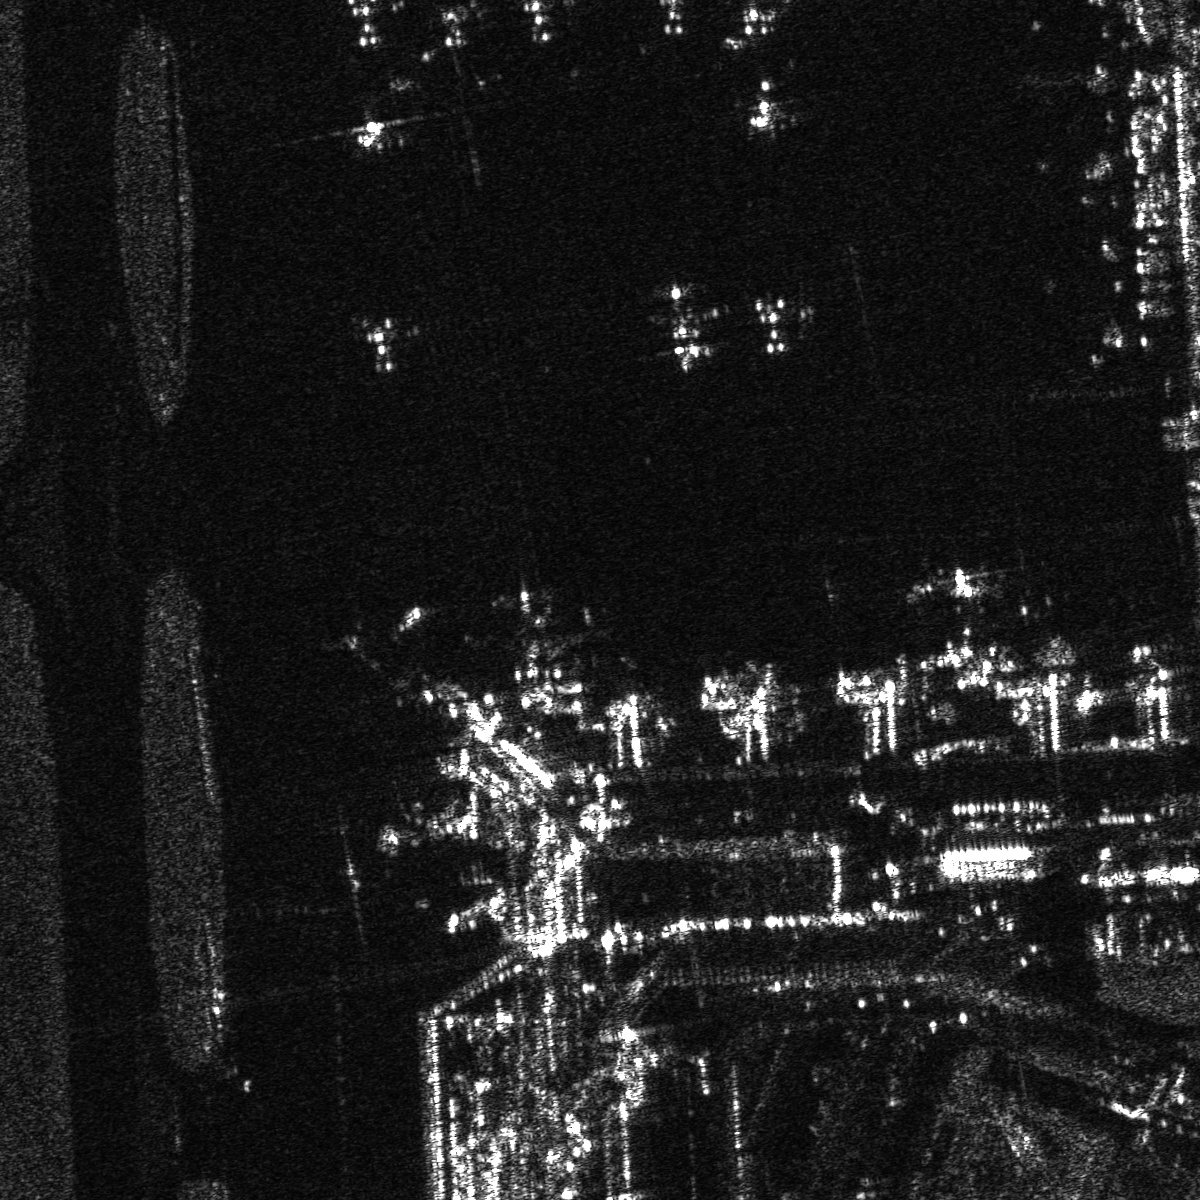A220: (749, 291, 823, 363)
ARJ21: (736, 70, 801, 138), (347, 319, 412, 380), (338, 103, 405, 157)
Boeing787: (927, 564, 997, 618)
other: (444, 571, 614, 695), (632, 268, 738, 381), (426, 1, 496, 57), (510, 1, 577, 47)
